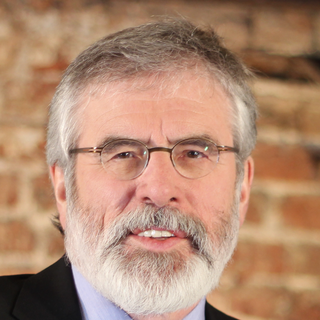eye: (177, 146, 213, 164), (107, 148, 142, 164)
